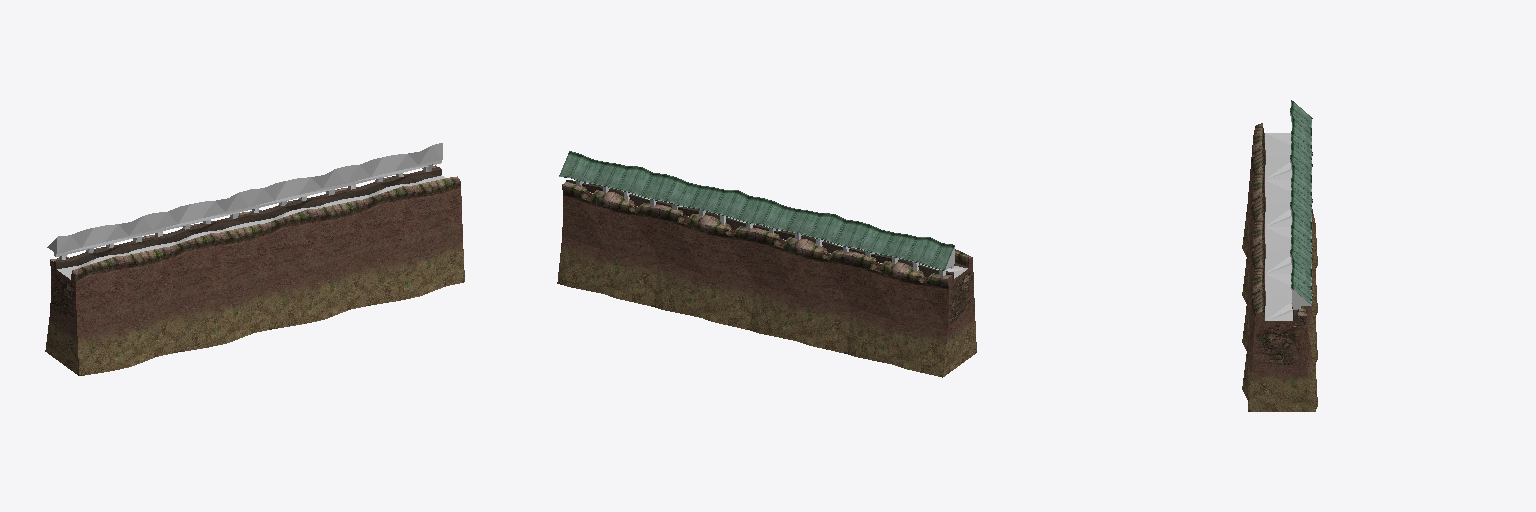
3 views of the same model, side by side, from view 1: azimuth 30°, elevation 25°; view 2: azimuth 150°, elevation 25°; view 3: azimuth 270°, elevation 25° (orthographic).
Parts seen in each view (by area): view 1: Node 0; view 2: Node 0; view 3: Node 0.
Boxes of the visible parts, <box> form: Node 0: <box>45,143,464,375</box>; Node 0: <box>557,151,976,377</box>; Node 0: <box>1242,100,1317,411</box>.
Bounding box in the file's own units: 40 × 12.54 × 6.8.
Materials: 4 (3 with a texture image).